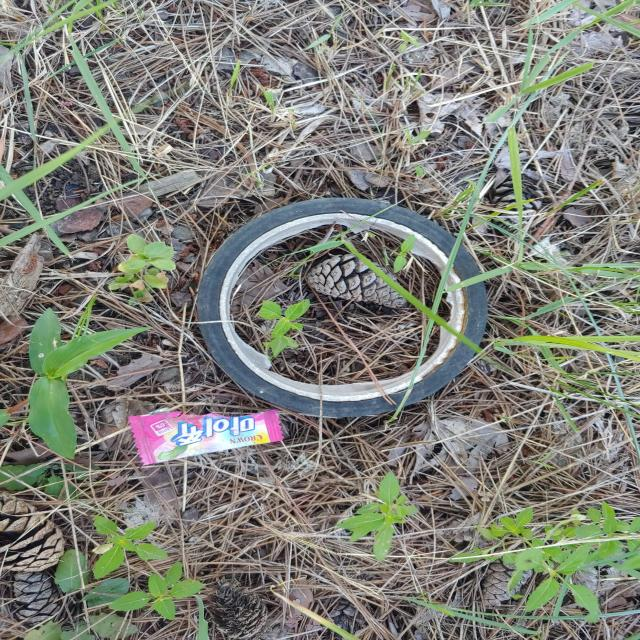litter: (120, 200, 489, 473)
